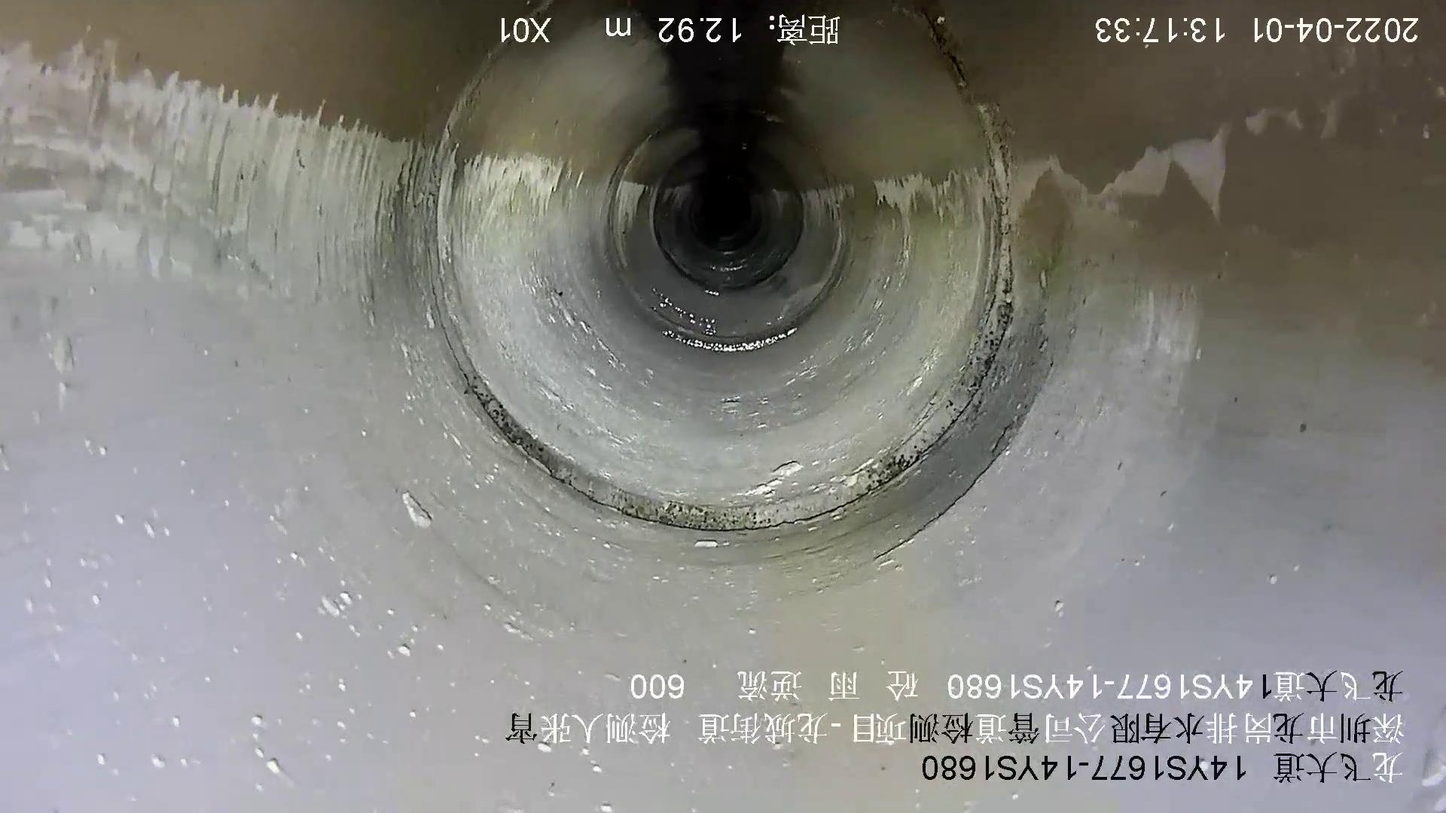CKTJ: (432, 103, 1016, 533)
